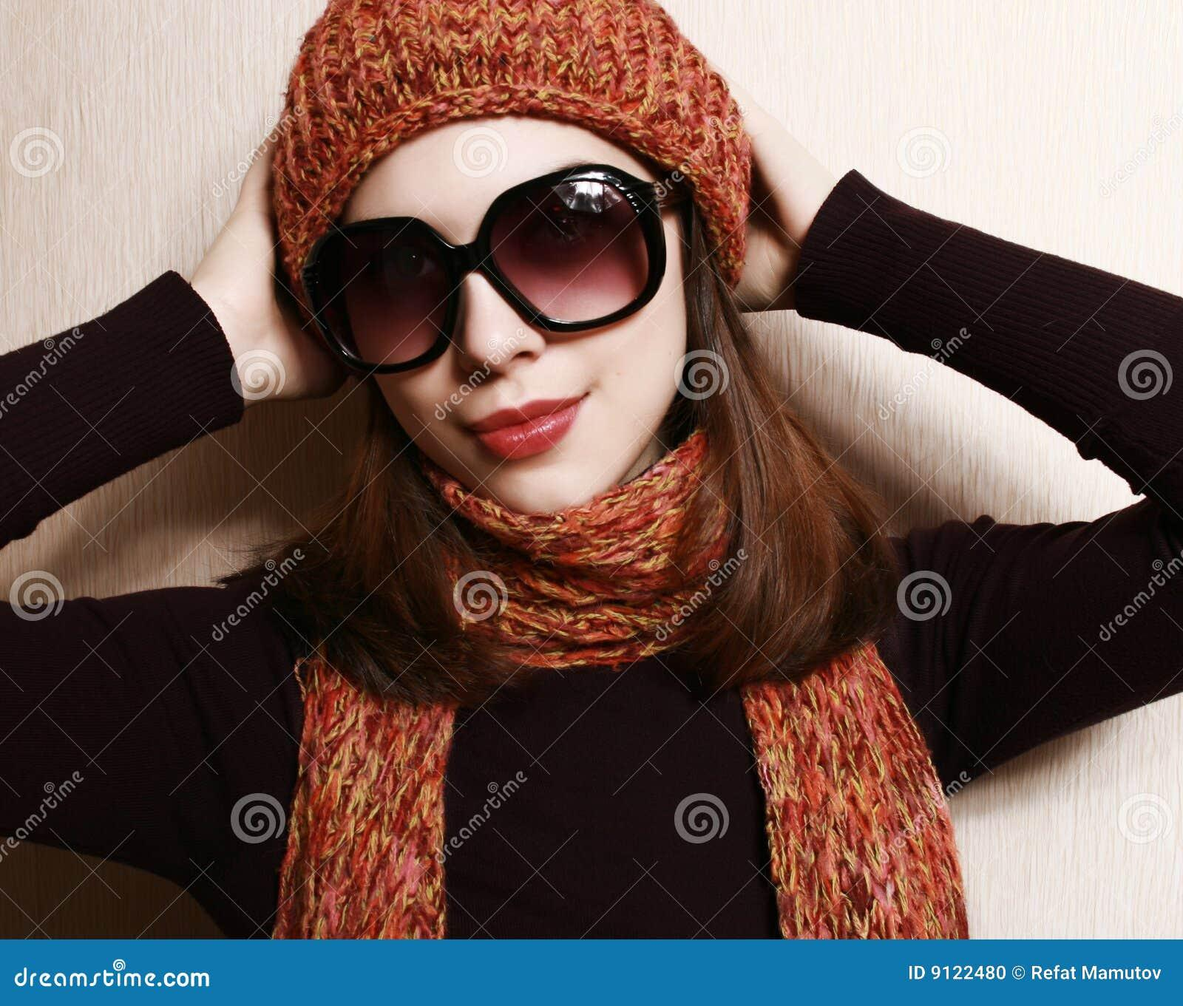cap: (244, 0, 776, 305)
sunglasses: (291, 153, 680, 390)
